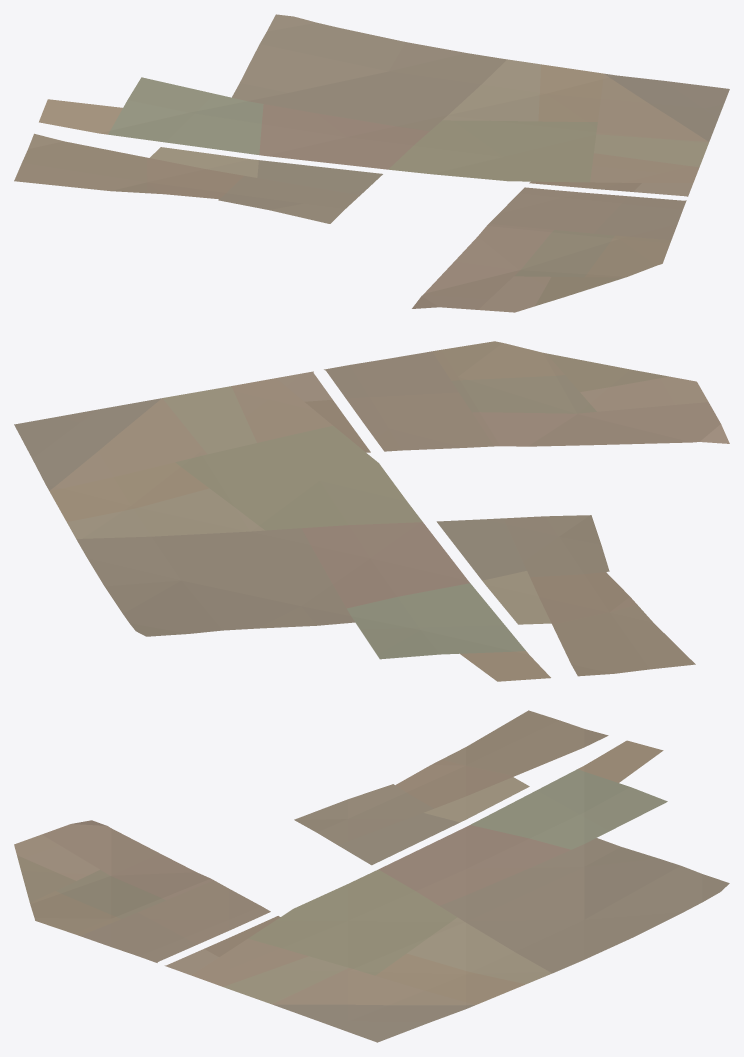
Rendered from farm_-10_-2_soil.glb.
3 renders of one model, top to bottom at view 1: azimuth 30°, elevation 25°; view 2: azimuth 150°, elevation 25°; view 3: azimuth 270°, elevation 25°, orthographic. The views are drawn at different scales.
Visible parts, largest first — view 1: geometry_0; view 2: geometry_0; view 3: geometry_0.
Part boxes in pixels (bbox=[...]): geometry_0: bbox=[14, 14, 729, 312]; geometry_0: bbox=[14, 341, 729, 681]; geometry_0: bbox=[14, 710, 729, 1042].
Size of the model in its own units: 515 by 20.37 by 485.
